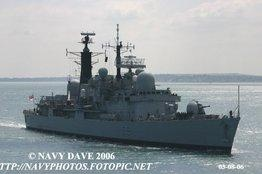warship: (22, 25, 243, 153)
